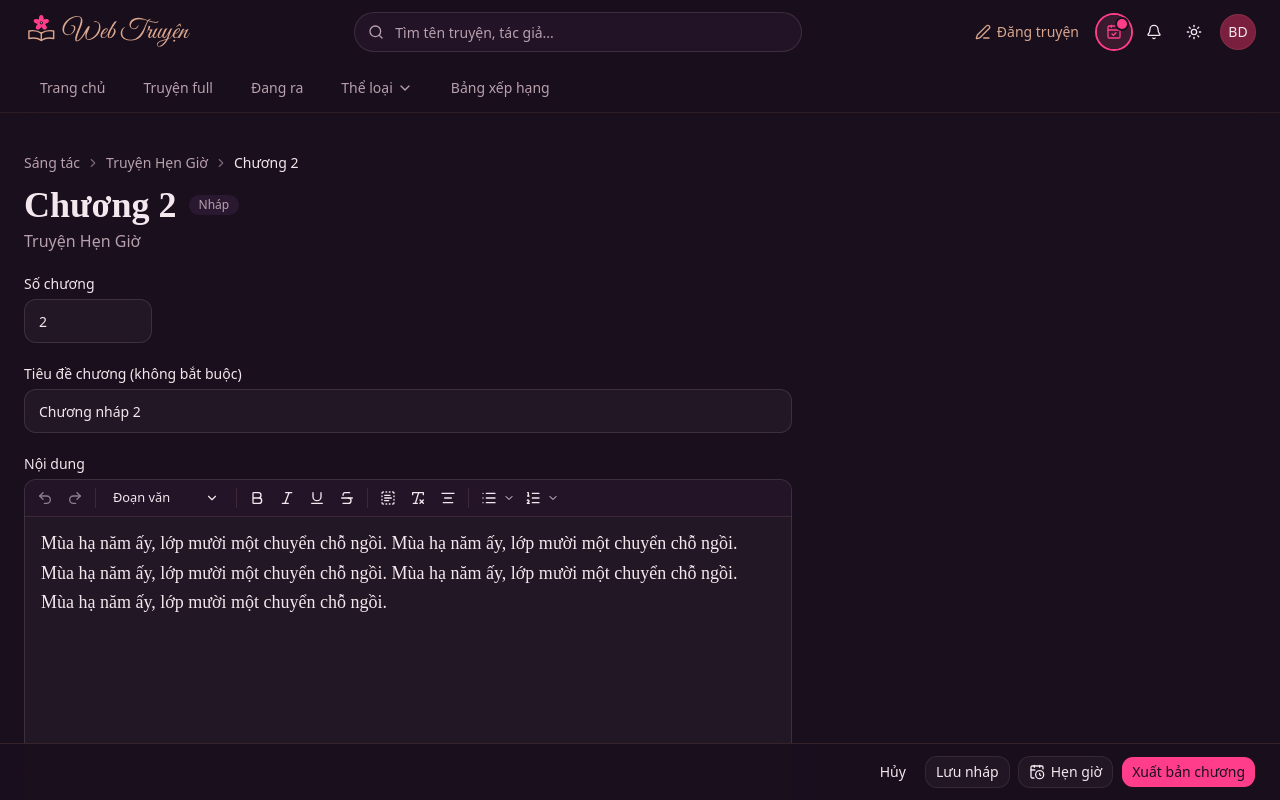
Test: giờ hẹn đã qua thì báo lỗi ngay trong hộp hẹn giờ, không lưu
The image size is (1280, 800).
Click the button "Hẹn giờ" at (1065, 772), box x1=1018 y1=756 x2=1113 y2=788
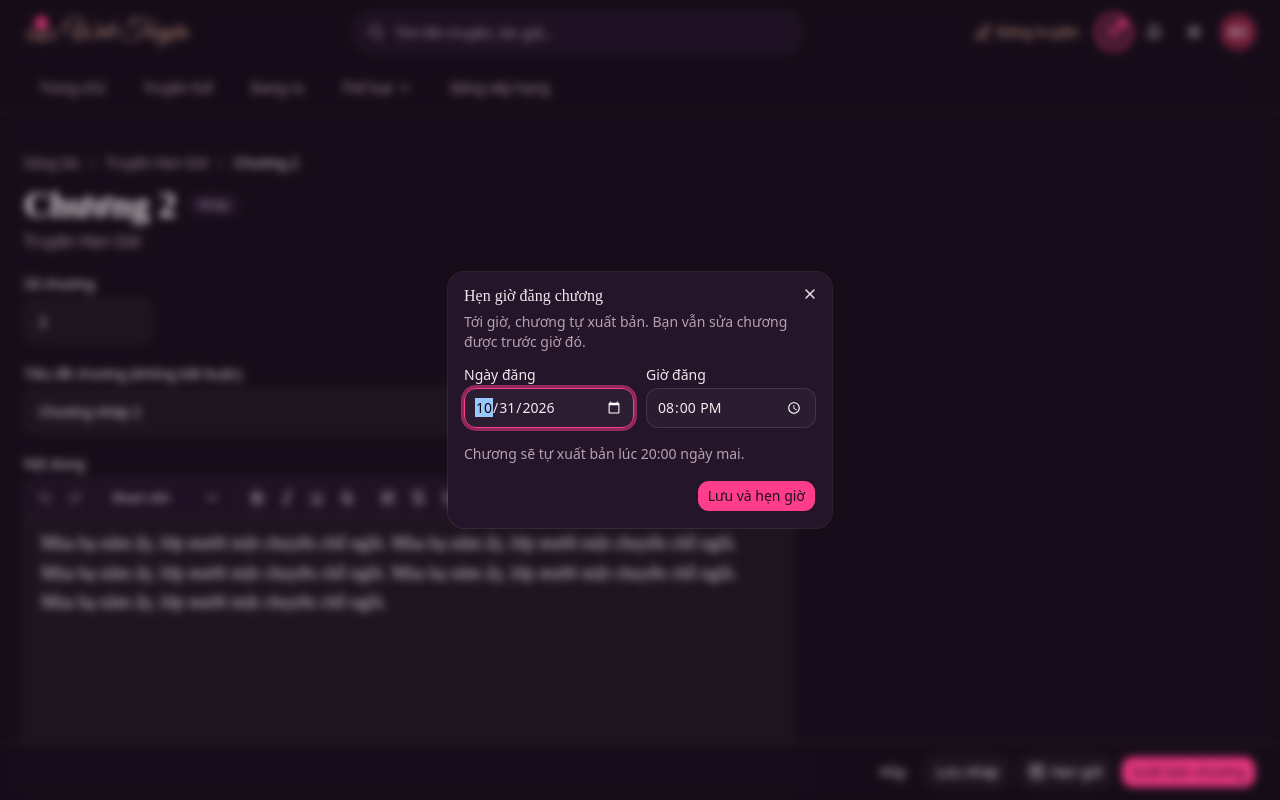
Type "2020-01-01" into the date field labelled "Ngày đăng" at (549, 408), box x1=464 y1=388 x2=634 y2=428
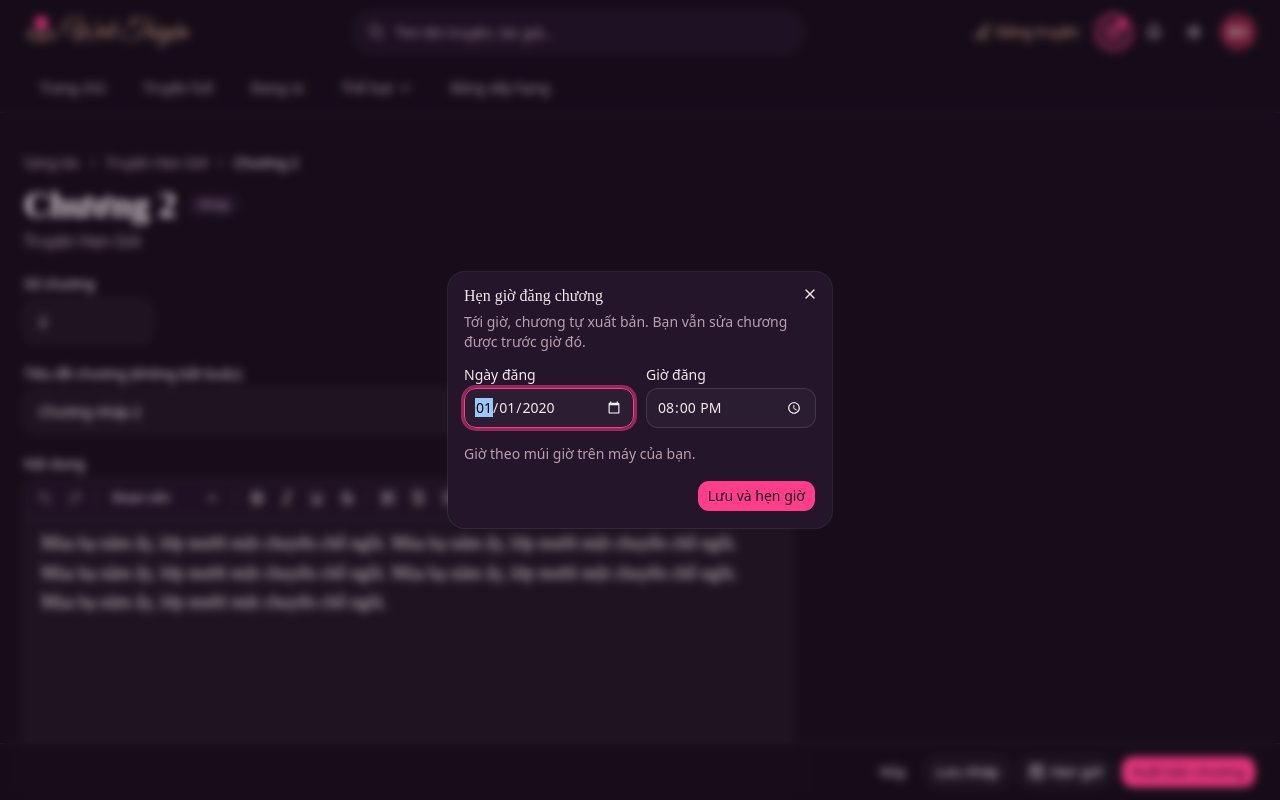
Click the button "Lưu và hẹn giờ" at (756, 496), box x1=697 y1=480 x2=816 y2=512
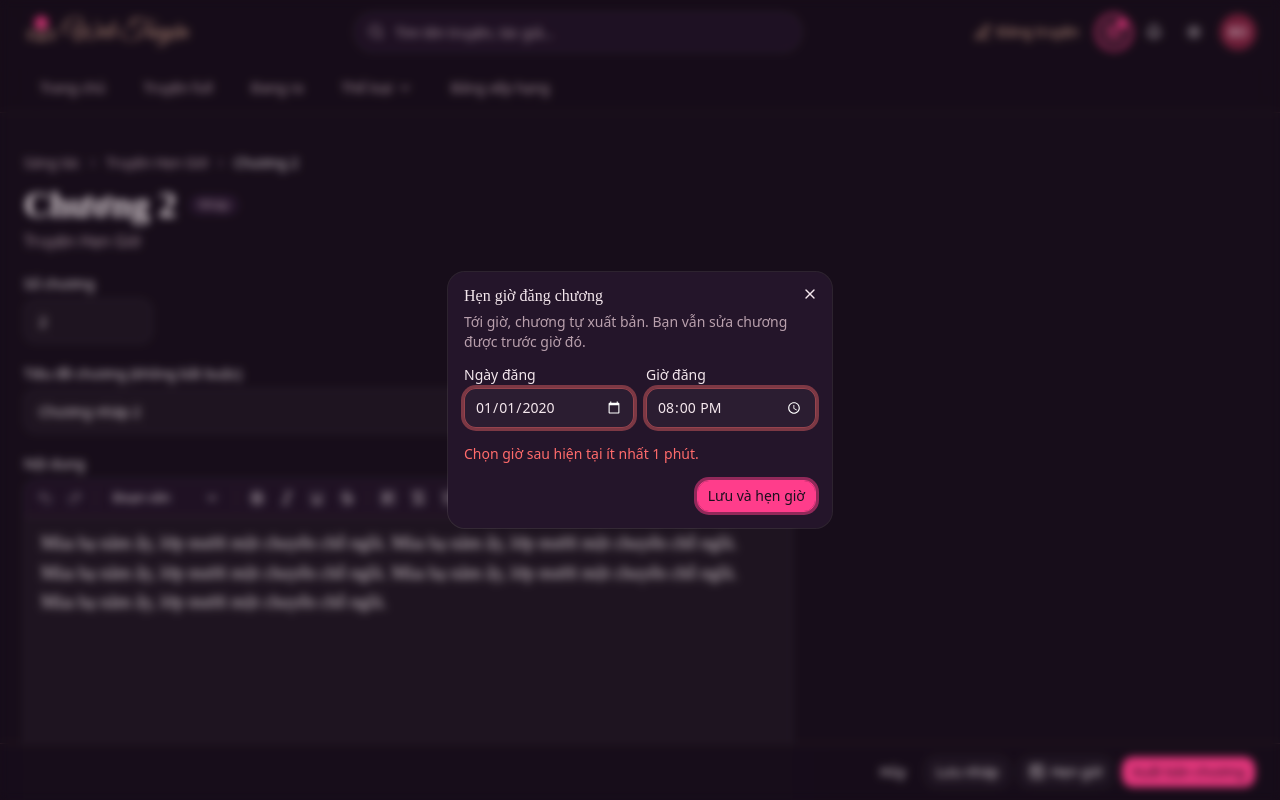
Expected: the text "Chọn giờ sau hiện tại ít nhất 1 phút." is shown, x1=464 y1=444 x2=699 y2=463
